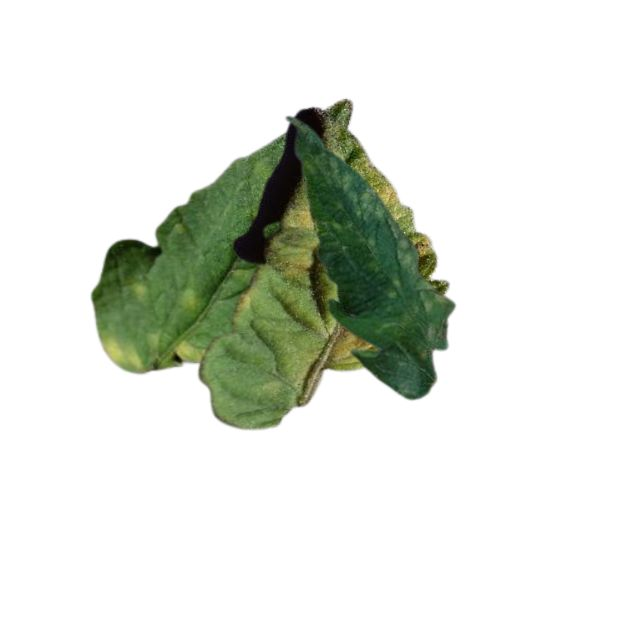Leaf_Mold: (351, 144, 437, 282), (267, 189, 318, 287), (318, 320, 377, 369), (228, 268, 263, 326), (103, 329, 146, 372), (170, 334, 206, 364), (175, 283, 209, 311)
